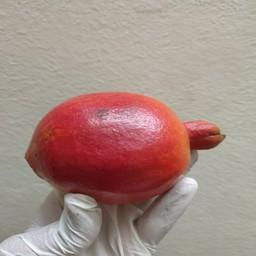pomegranate: (24, 91, 226, 204)
